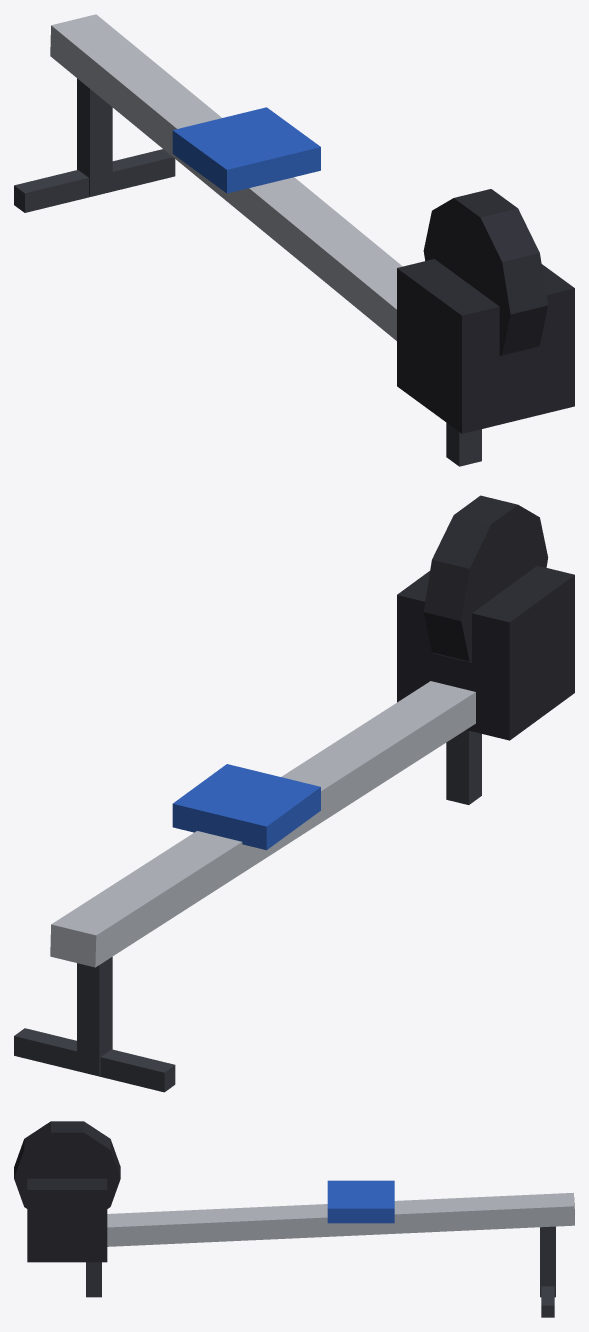
The model's file is rowing_machine.fbx.
The picture shows the model from 3 angles, top to bottom: view 1: azimuth 30°, elevation 25°; view 2: azimuth 150°, elevation 25°; view 3: azimuth 270°, elevation 25°; orthographic projection. The views are drawn at different scales.
Visible parts, largest first — view 1: rowing_machine; view 2: rowing_machine; view 3: rowing_machine.
Part boxes in pixels (x1,y1,x2,y2): rowing_machine: [14, 14, 574, 466]; rowing_machine: [14, 495, 574, 1092]; rowing_machine: [14, 1121, 574, 1317].
Bounding box in the file's own units: 0.4 × 0.6952 × 2.1.
